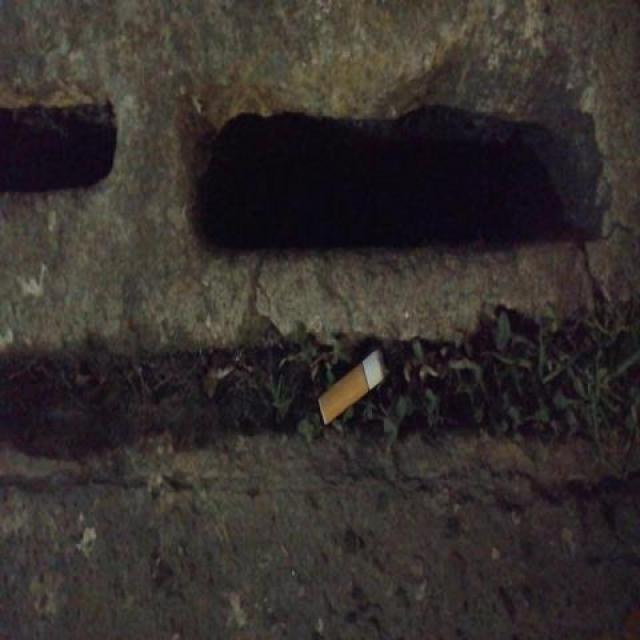non-organic waste: (315, 343, 390, 432)
